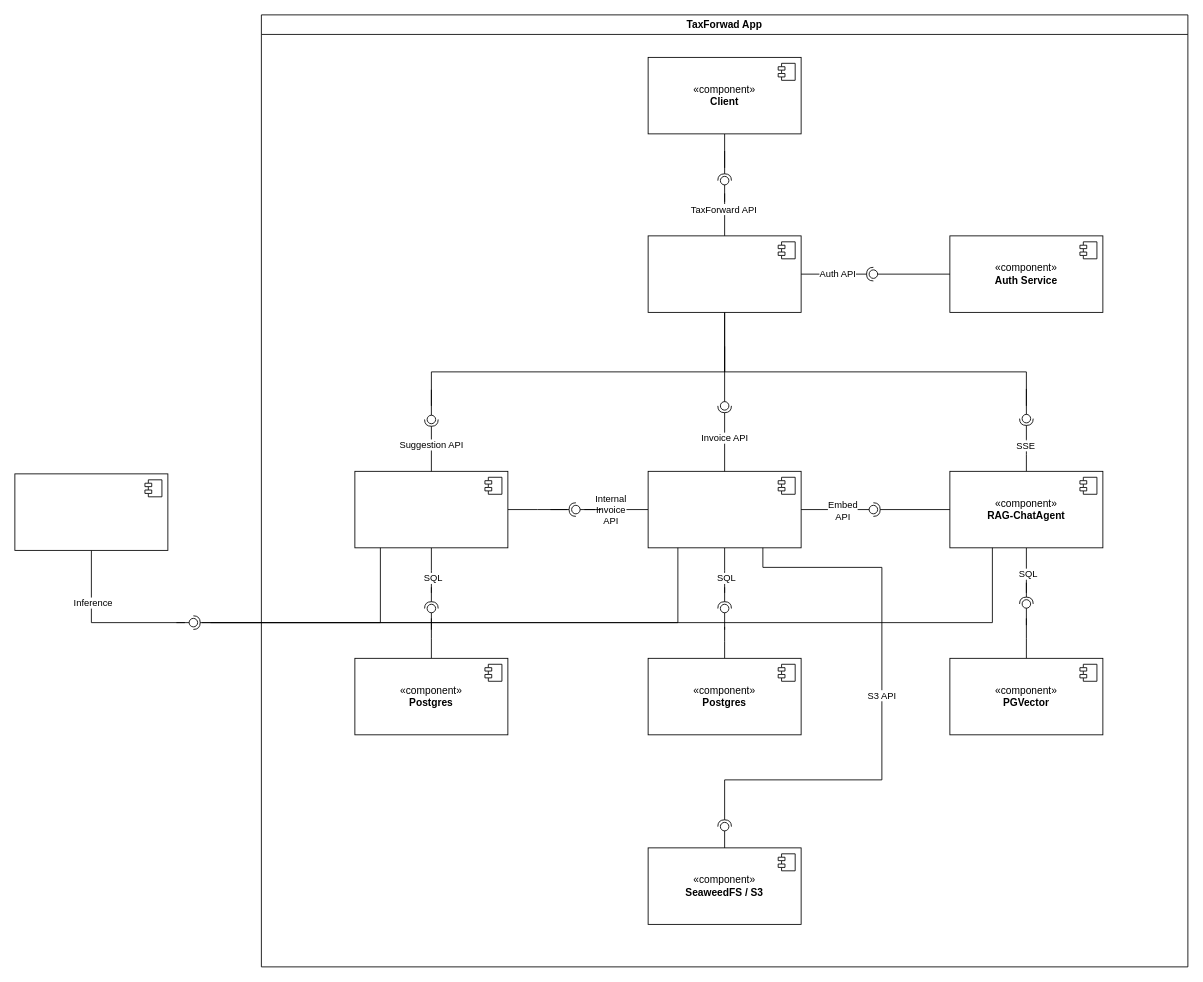
Some shapes in this 1203 by 982 pixel diagram are drawn without their labels. The centre of each missing label's shape, as x and y in pixels:
"«component» Invoice Service" belongs at (x=724, y=509).
"«component» LLM Service" belongs at (x=91, y=511).
"«component» Suggestion Service" belongs at (x=431, y=509).
"«component» Traefik" belongs at (x=724, y=273).
